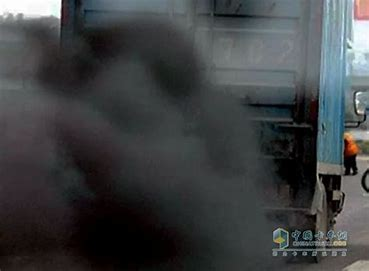smoke: (1, 22, 289, 271)
